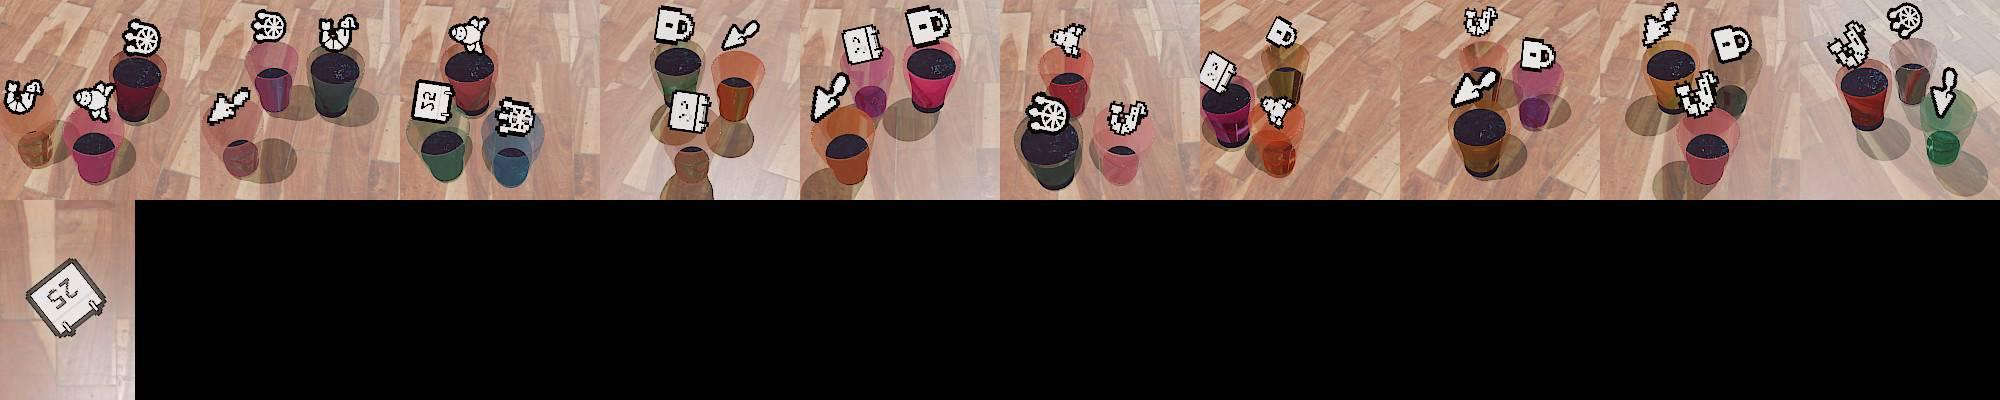icon: (24, 259, 108, 339), (1675, 68, 1721, 117), (409, 78, 455, 125), (1827, 19, 1871, 68), (1450, 66, 1501, 108), (1024, 90, 1070, 134), (668, 88, 712, 134), (904, 5, 952, 47), (1642, 1, 1681, 50), (810, 74, 849, 122), (841, 23, 884, 66), (1199, 50, 1239, 96), (73, 79, 115, 121), (494, 96, 537, 136), (654, 5, 696, 46), (1106, 97, 1149, 136), (208, 85, 251, 125), (1710, 25, 1754, 65), (448, 15, 490, 55), (319, 14, 361, 52), (121, 18, 161, 57), (3, 78, 43, 116), (1929, 66, 1958, 118), (1048, 22, 1087, 59), (1888, 3, 1925, 39), (250, 9, 287, 45), (1519, 36, 1556, 71), (721, 19, 760, 52), (1260, 94, 1295, 130), (1264, 15, 1298, 51), (1463, 5, 1497, 38)
